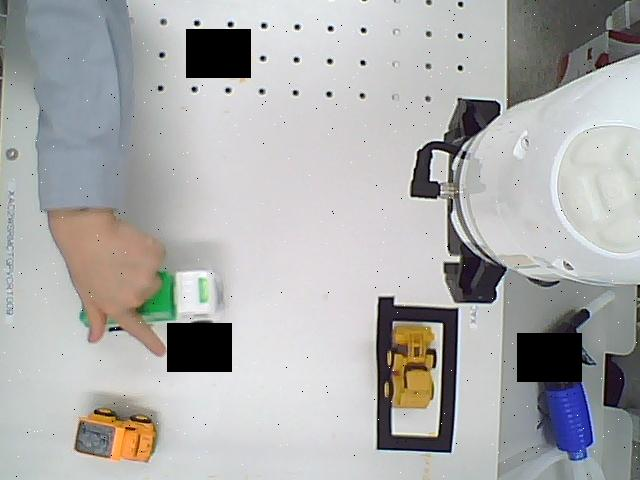Diesel car: (72, 395, 155, 469)
Electric car: (80, 264, 226, 332)
Gasoline car: (380, 315, 437, 413)
